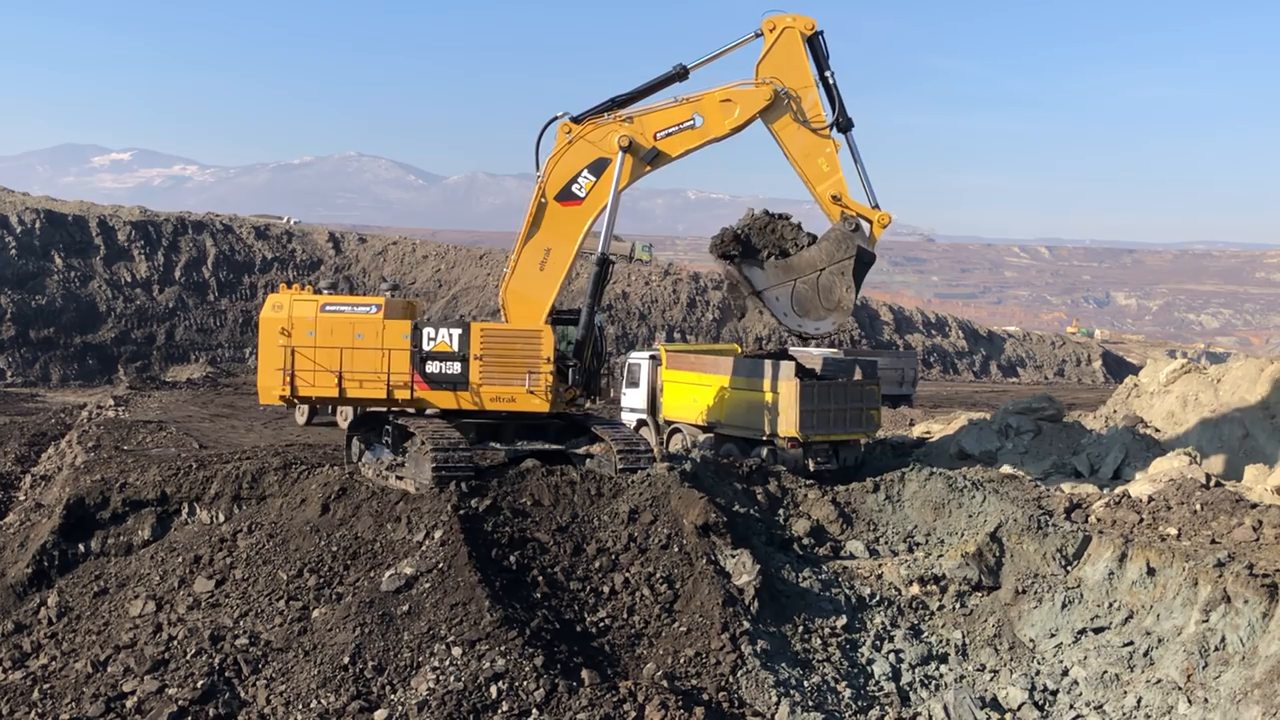full: (714, 206, 876, 340)
